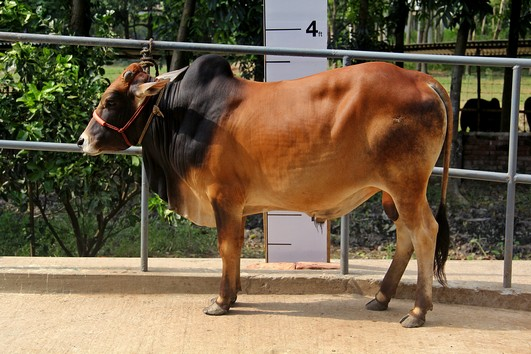cow: (76, 49, 461, 332)
